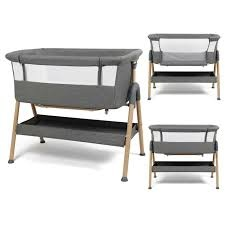crib: (6, 49, 143, 180), (148, 34, 219, 98), (149, 124, 218, 188)
